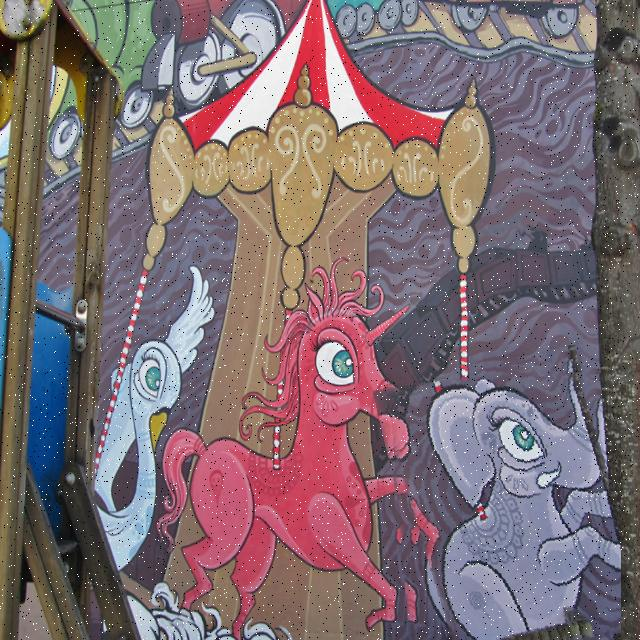elephant: (386, 354, 621, 640)
